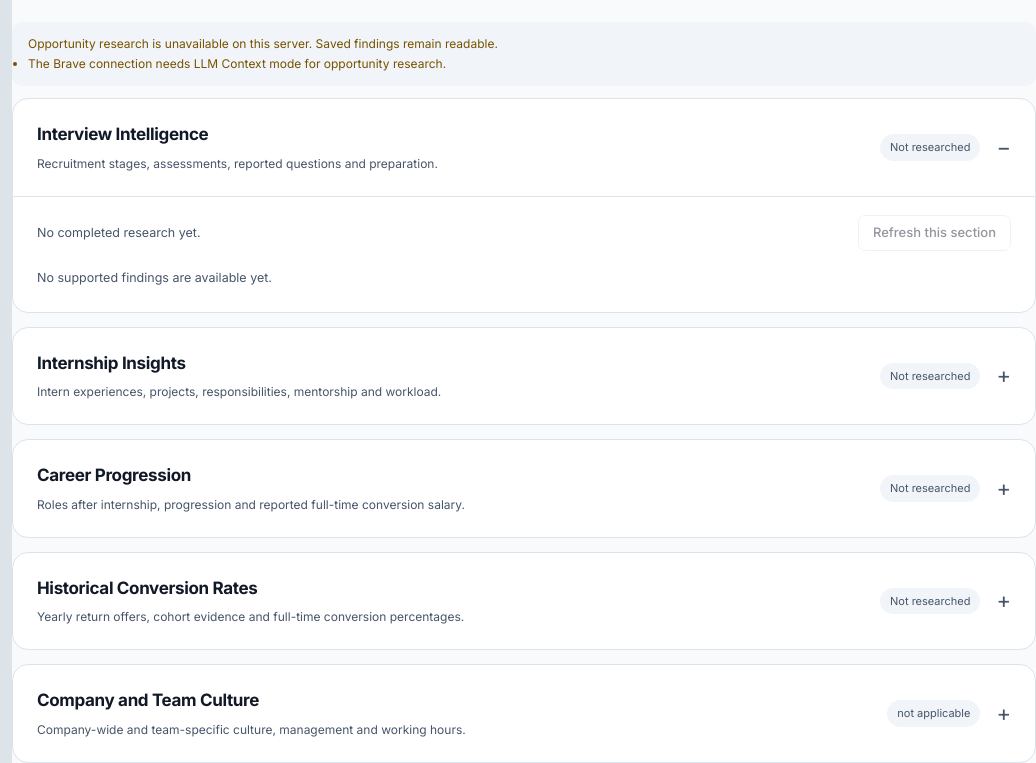
Test: shows provider configuration and general-target states honestly
This screenshot has width=1036, height=763.
(page scrolled)
Expected: the list item "The Brave connection needs LLM Context mode for opportunity research." is shown, 28,56 -> 446,71
Click the text "Company and Team Culture": (148, 700) 37,690 -> 259,710
(page scrolled)
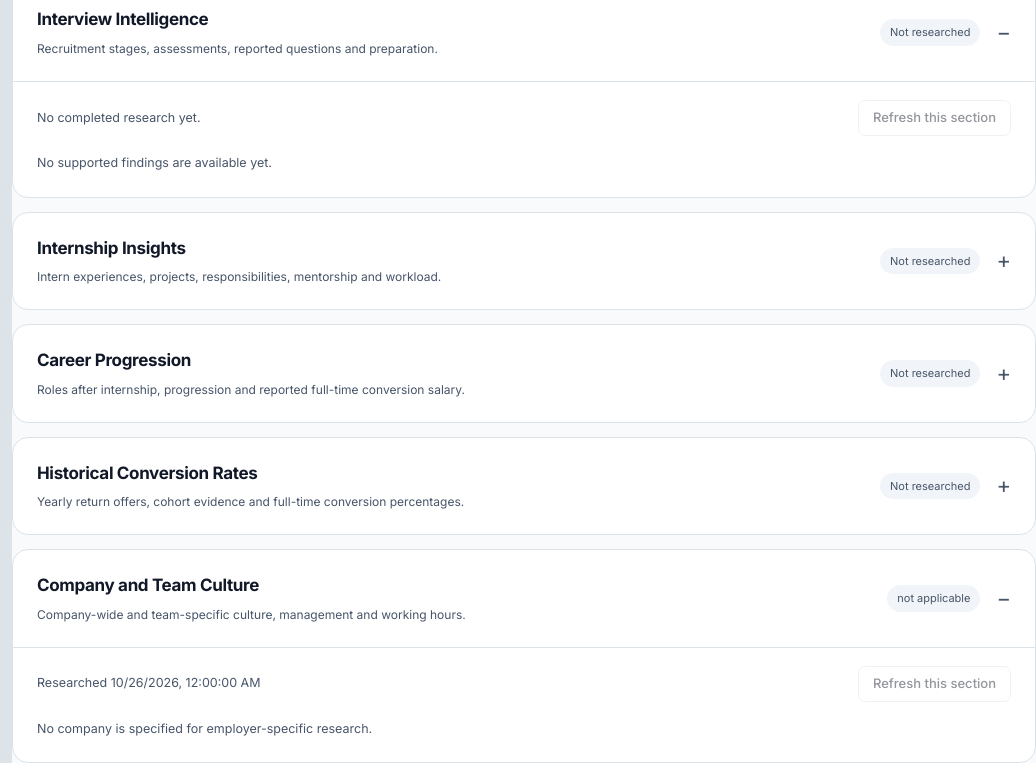
Expected: the text "No company is specified for employer-specific research." is shown, 37,721 -> 372,736
